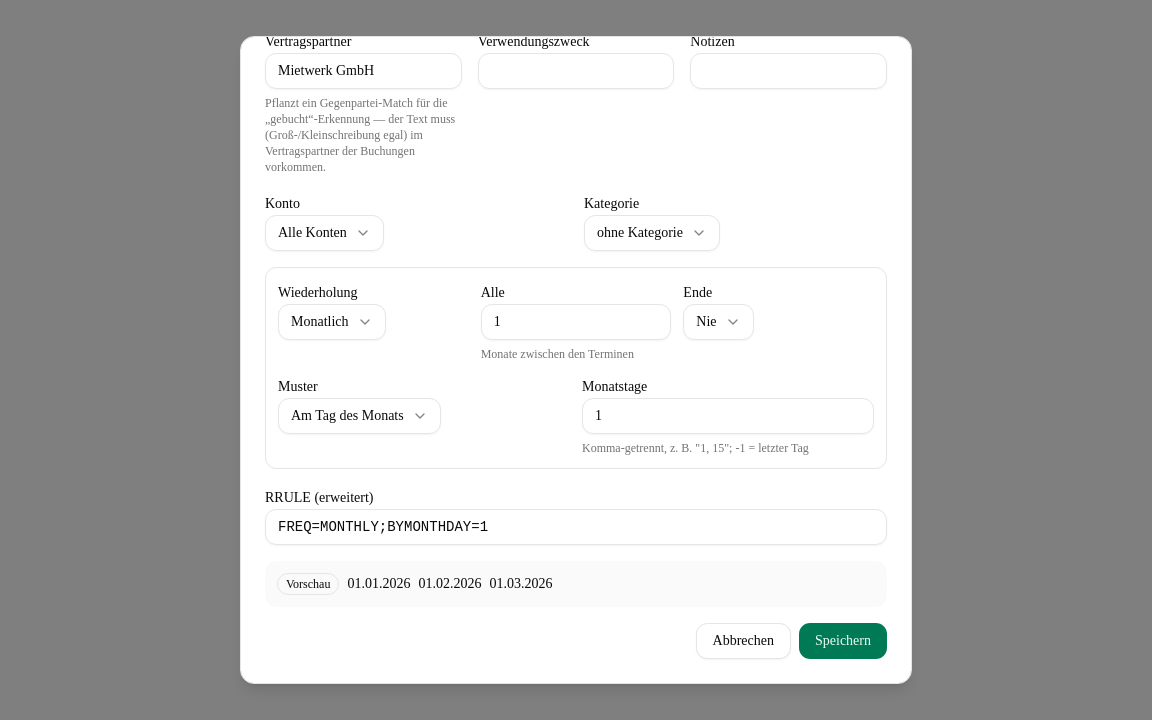
Scenario: plan dialog: raw RRULE mode validates exactly like the server › unparseable raw text disarms save; a repaired raw rule re-arms
The width and height of the screenshot is (1152, 720).
(page scrolled)
Replace the text in the field labelled "RRULE (erweitert)" with "garbage". click: (576, 527)
box: [265,509,887,545]
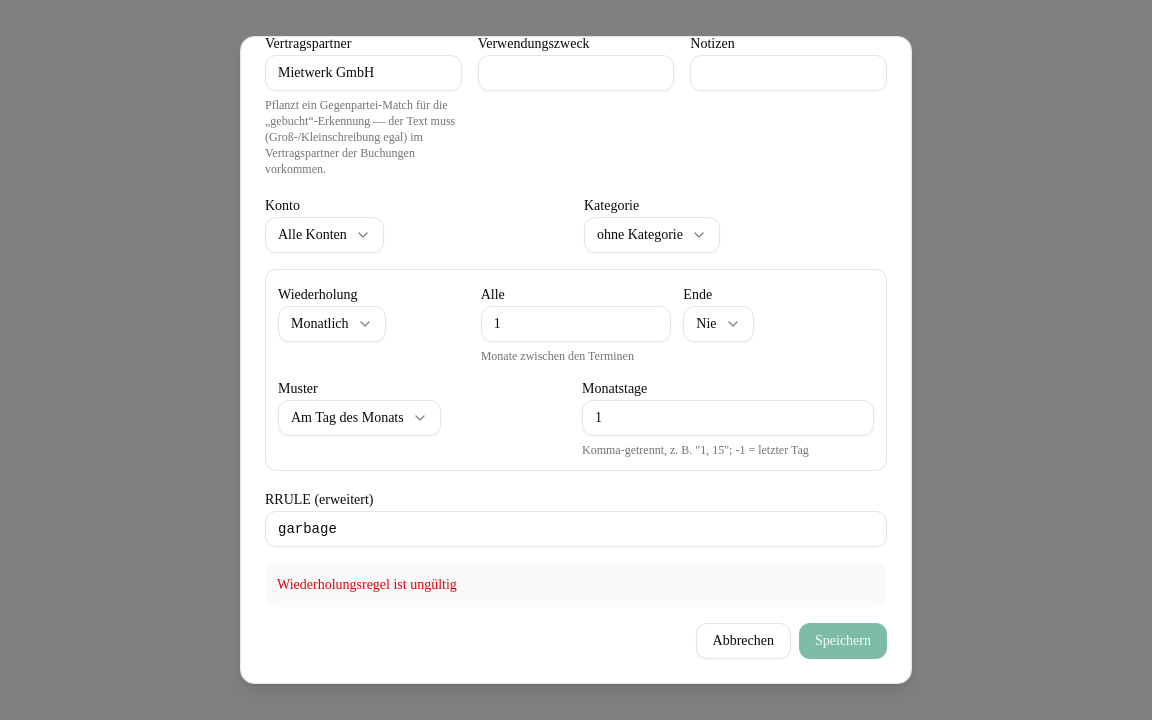
expect the text "Wiederholungsregel ist ungültig" is shown: met, box [277,577,457,592]
expect the button "Speichern" is disabled: met, box [799,623,887,659]
// a raw rule the server would accept re-arms the dialog
Replace the text in the field labelled "RRULE (erweitert)" with "FREQ=DAILY". click: (576, 529)
box: [265,511,887,547]
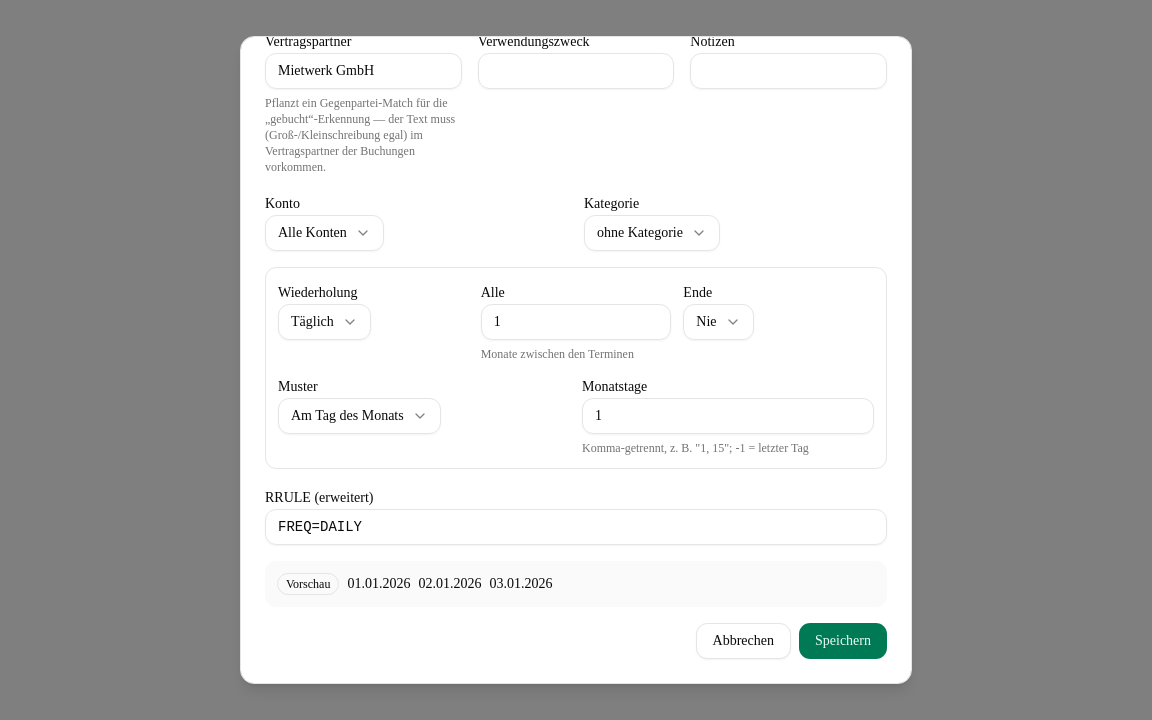
expect the text "Wiederholungsregel ist ungültig" is gone: met
expect the button "Speichern" is enabled: met, box [799,623,887,659]
